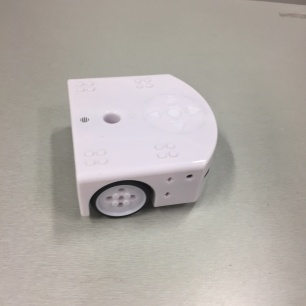thymio: (56, 69, 223, 224)
